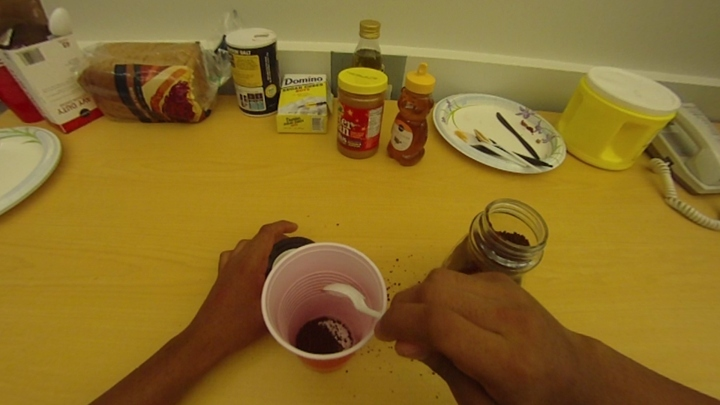hand: (382, 264, 574, 405), (196, 217, 303, 353)
